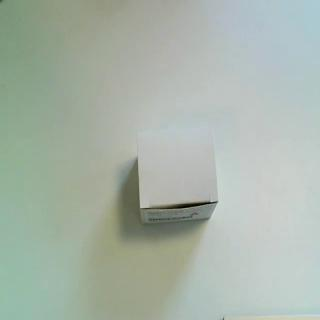apodorm5mg: (136, 127, 220, 227)
